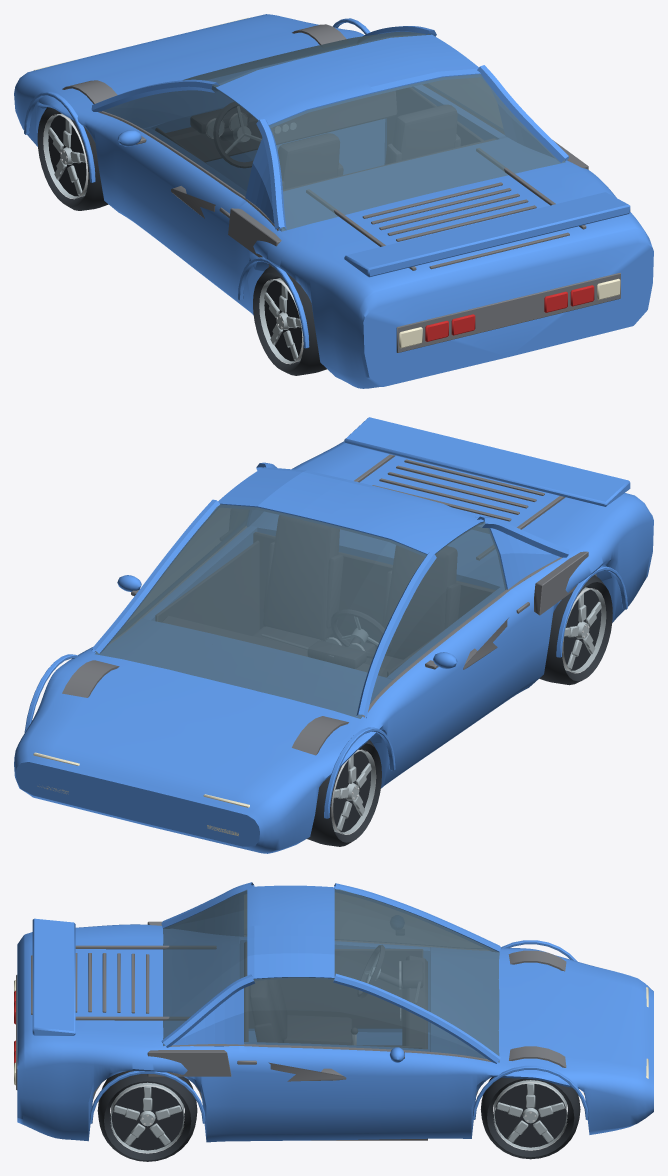
The model's file is Stiletto.fbx.
3 renders of one model, top to bottom at view 1: azimuth 30°, elevation 25°; view 2: azimuth 150°, elevation 25°; view 3: azimuth 270°, elevation 25°, orthographic. The views are drawn at different scales.
Visible parts, largest first — view 1: Body__paint, Body__glass, Body__engine, Body__interior, WheelRL__rubber, WheelFL__rubber, WheelRL__metal, WheelFL__metal, Body__tail, Body__lamp; view 2: Body__paint, Body__glass, Body__interior, Body__engine, WheelRL__rubber, WheelFL__rubber, WheelRL__metal, WheelFL__metal; view 3: Body__paint, Body__glass, Body__interior, Body__engine, WheelRR__rubber, WheelFR__rubber, WheelRR__metal, WheelFR__metal, Steer__interior.
Part boxes in pixels (bbox=[...]): Body__paint: bbox=[14, 14, 653, 388]; Body__glass: bbox=[103, 31, 565, 231]; Body__engine: bbox=[62, 24, 620, 352]; Body__interior: bbox=[155, 87, 495, 190]; WheelRL__rubber: bbox=[253, 266, 326, 375]; WheelFL__rubber: bbox=[37, 107, 108, 210]; WheelRL__metal: bbox=[259, 278, 302, 363]; WheelFL__metal: bbox=[43, 113, 87, 198]; Body__tail: bbox=[425, 285, 594, 341]; Body__lamp: bbox=[34, 17, 620, 348]; Body__paint: bbox=[14, 417, 653, 853]; Body__glass: bbox=[95, 504, 506, 718]; Body__interior: bbox=[155, 515, 495, 676]; Body__engine: bbox=[62, 454, 596, 755]; WheelRL__rubber: bbox=[539, 575, 612, 685]; WheelFL__rubber: bbox=[307, 740, 381, 846]; WheelRL__metal: bbox=[563, 587, 606, 672]; WheelFL__metal: bbox=[331, 749, 375, 834]; Body__paint: bbox=[17, 882, 653, 1142]; Body__glass: bbox=[163, 888, 499, 1062]; Body__interior: bbox=[244, 942, 427, 1140]; Body__engine: bbox=[16, 921, 584, 1099]; WheelRR__rubber: bbox=[97, 1070, 197, 1161]; WheelFR__rubber: bbox=[480, 1077, 580, 1159]; WheelRR__metal: bbox=[111, 1082, 184, 1153]; WheelFR__metal: bbox=[494, 1080, 567, 1150]; Steer__interior: bbox=[357, 945, 384, 998].
Size of the model in its own units: 2.19 by 1.28 by 4.18.
